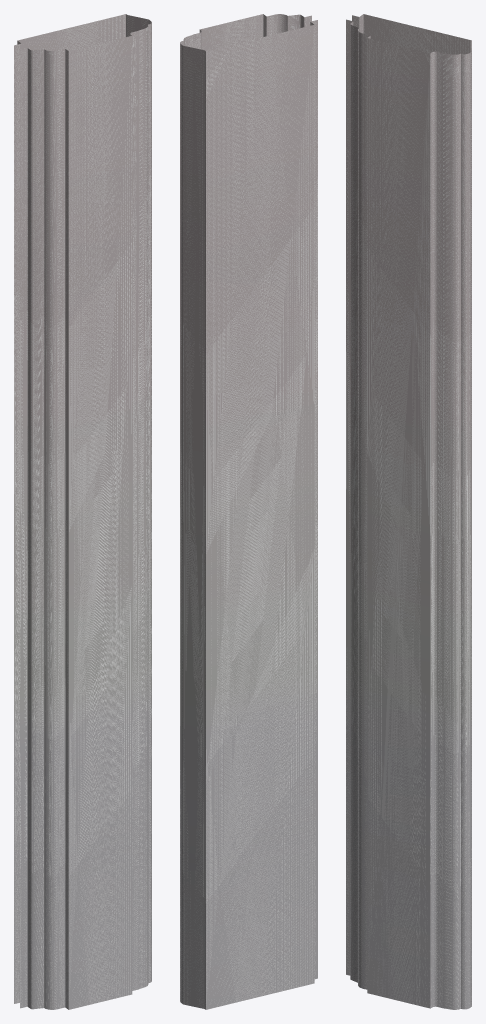
Rendered from original-60.obj.
3 renders of one model, left to right at view 1: azimuth 30°, elevation 25°; view 2: azimuth 210°, elevation 25°; view 3: azimuth 330°, elevation 25°, orthographic.
Visible parts, largest first — view 1: RT_11_CR1/RT_11_CR/mesh48/mesh48-geometry#mesh48-geometry; view 2: RT_11_CR1/RT_11_CR/mesh48/mesh48-geometry#mesh48-geometry; view 3: RT_11_CR1/RT_11_CR/mesh48/mesh48-geometry#mesh48-geometry.
Boxes of the visible parts, x1,y1,x2,y2 form: RT_11_CR1/RT_11_CR/mesh48/mesh48-geometry#mesh48-geometry: (14,14,151,1009); RT_11_CR1/RT_11_CR/mesh48/mesh48-geometry#mesh48-geometry: (180,14,317,1009); RT_11_CR1/RT_11_CR/mesh48/mesh48-geometry#mesh48-geometry: (346,14,471,1009).
Bounding box in the file's own units: 0.0879 × 0.6313 × 0.0284.
